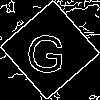G: (25, 25, 67, 74)
